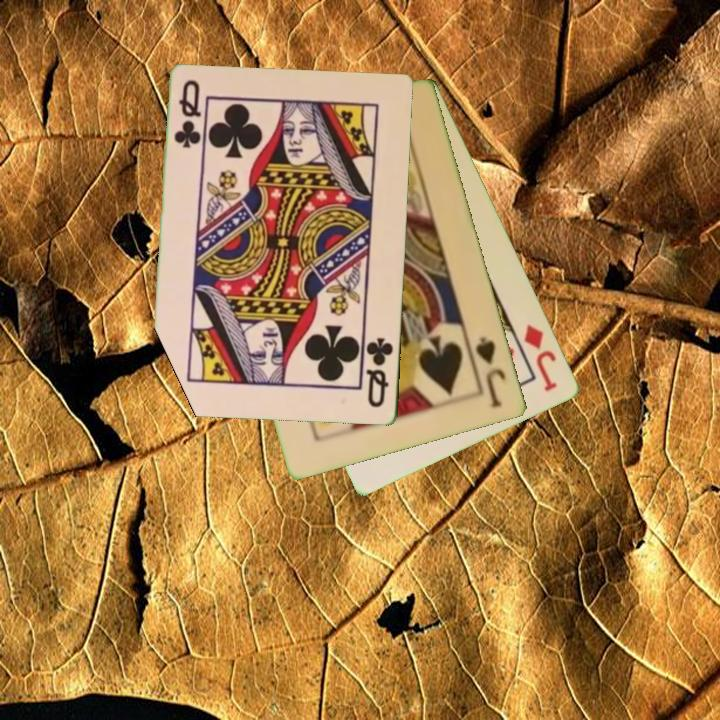Jd: (521, 320, 561, 395)
Js: (472, 333, 509, 411)
Qc: (363, 334, 397, 411), (171, 77, 203, 152)
